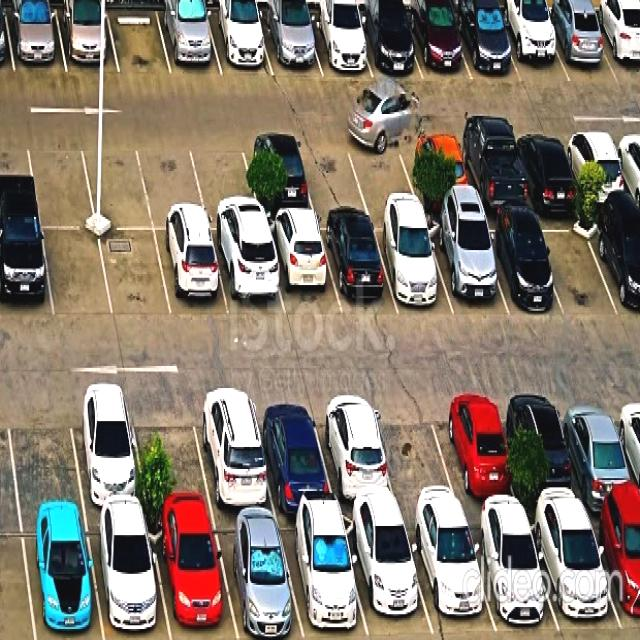empty: (369, 390, 463, 514), (128, 390, 213, 513), (4, 389, 84, 513), (534, 212, 620, 312), (188, 135, 262, 230), (79, 136, 153, 229), (137, 136, 208, 229), (25, 135, 96, 227), (99, 230, 171, 320), (43, 229, 113, 318), (296, 135, 369, 211), (346, 134, 419, 209), (107, 7, 171, 75)
occupied: (526, 510, 624, 640), (211, 515, 304, 640), (277, 515, 369, 640), (147, 515, 238, 640), (465, 514, 559, 634), (403, 514, 496, 635), (342, 515, 434, 637), (433, 389, 522, 513), (311, 393, 400, 513), (191, 387, 275, 513), (86, 514, 170, 640), (20, 514, 103, 640), (251, 391, 336, 512), (556, 388, 640, 510), (504, 388, 586, 512), (66, 388, 147, 512), (424, 218, 509, 316), (477, 218, 562, 314), (371, 217, 454, 315), (318, 216, 398, 314), (264, 217, 341, 318), (587, 507, 640, 633), (155, 231, 229, 318), (211, 232, 285, 317), (453, 133, 531, 211), (241, 135, 315, 213), (400, 134, 475, 209), (588, 211, 640, 318), (541, 10, 618, 82), (496, 10, 570, 84), (511, 131, 582, 206), (561, 130, 631, 204), (0, 223, 53, 319), (452, 8, 521, 81), (404, 8, 472, 80), (354, 11, 422, 79), (205, 9, 273, 76), (157, 7, 222, 76), (305, 13, 372, 77), (55, 7, 119, 73), (5, 7, 67, 72), (259, 13, 322, 75), (590, 12, 640, 83)
